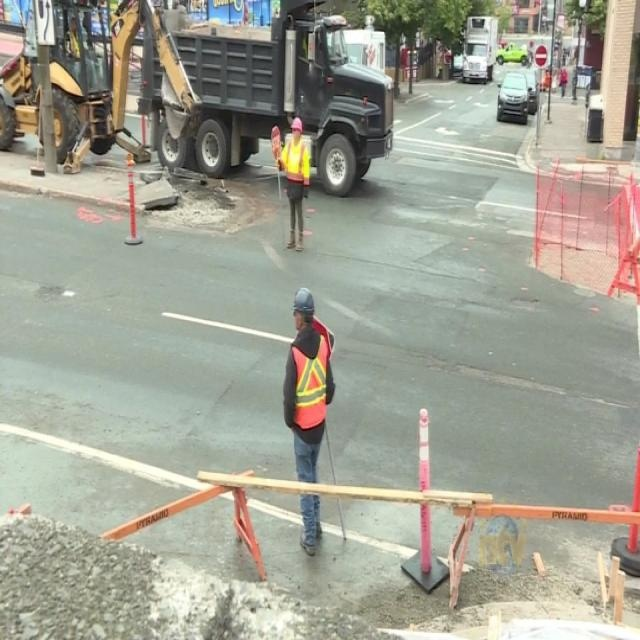Con_Casco: (293, 284, 315, 332)
Con_Chaleco: (292, 339, 328, 425), (282, 143, 310, 193)
